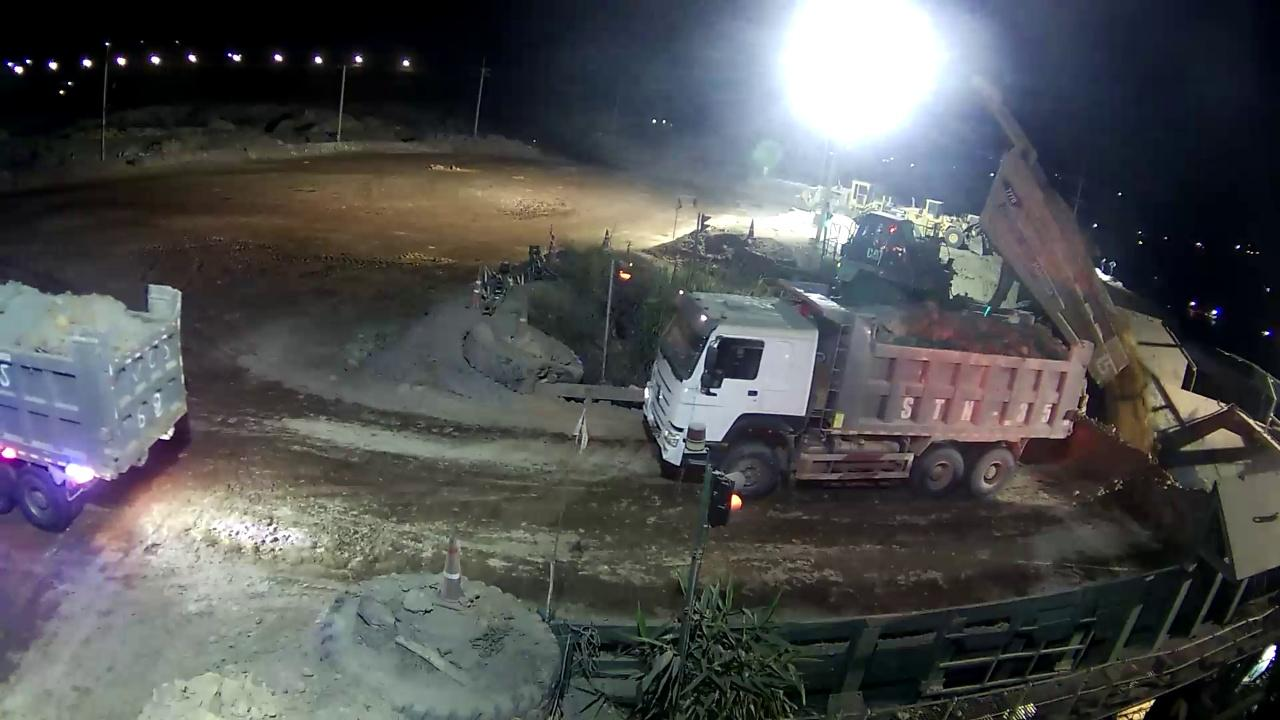dumping_soil: (832, 68, 1184, 390)
mining truck: (0, 276, 190, 532)
tail_number: (1091, 350, 1119, 376)
truck_size: (994, 176, 1022, 208)
